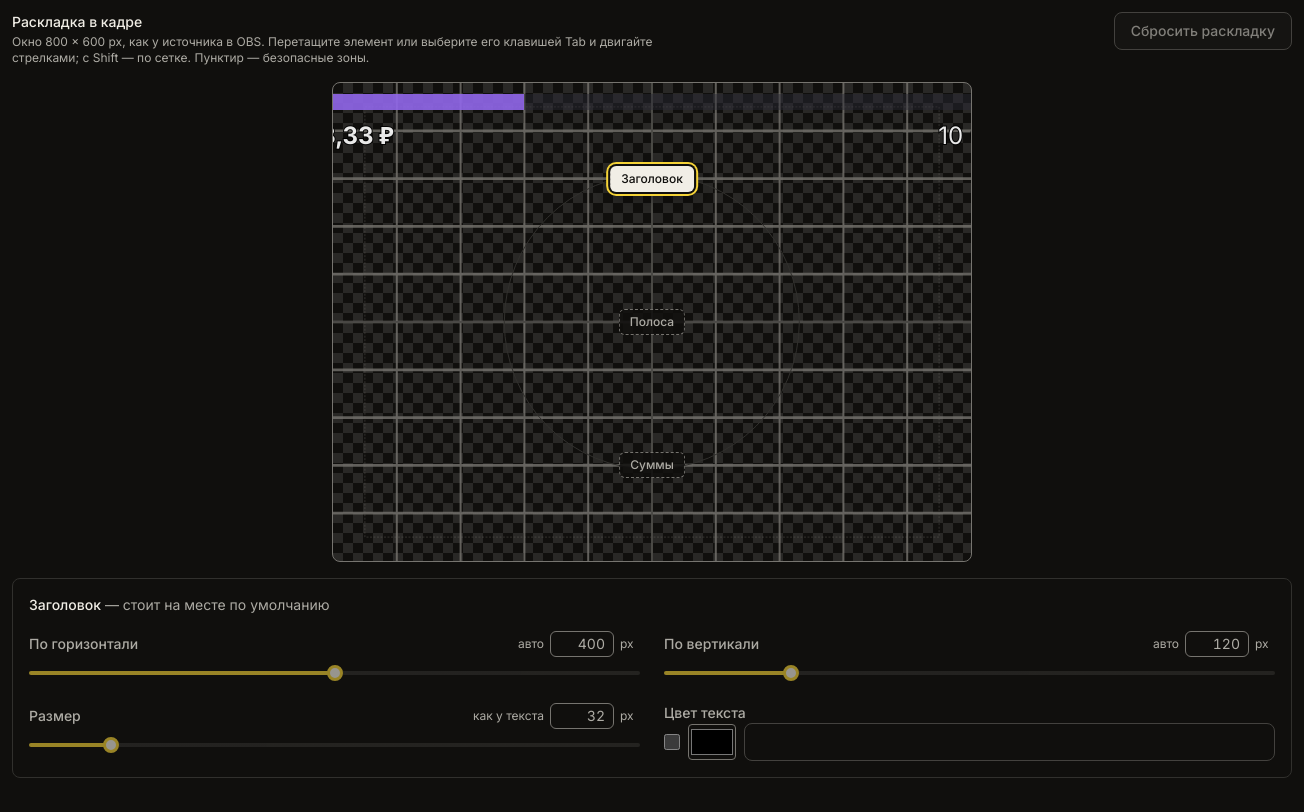
раскладка элементов в кадре › «Сбросить раскладку» возвращает все элементы в поток
The width and height of the screenshot is (1304, 812).
expect the button "Сбросить раскладку" is disabled: met, box [1114,12,1292,50]
Press ArrowRight in the button with aria-label "Заголовок:", box [610,166,694,192]
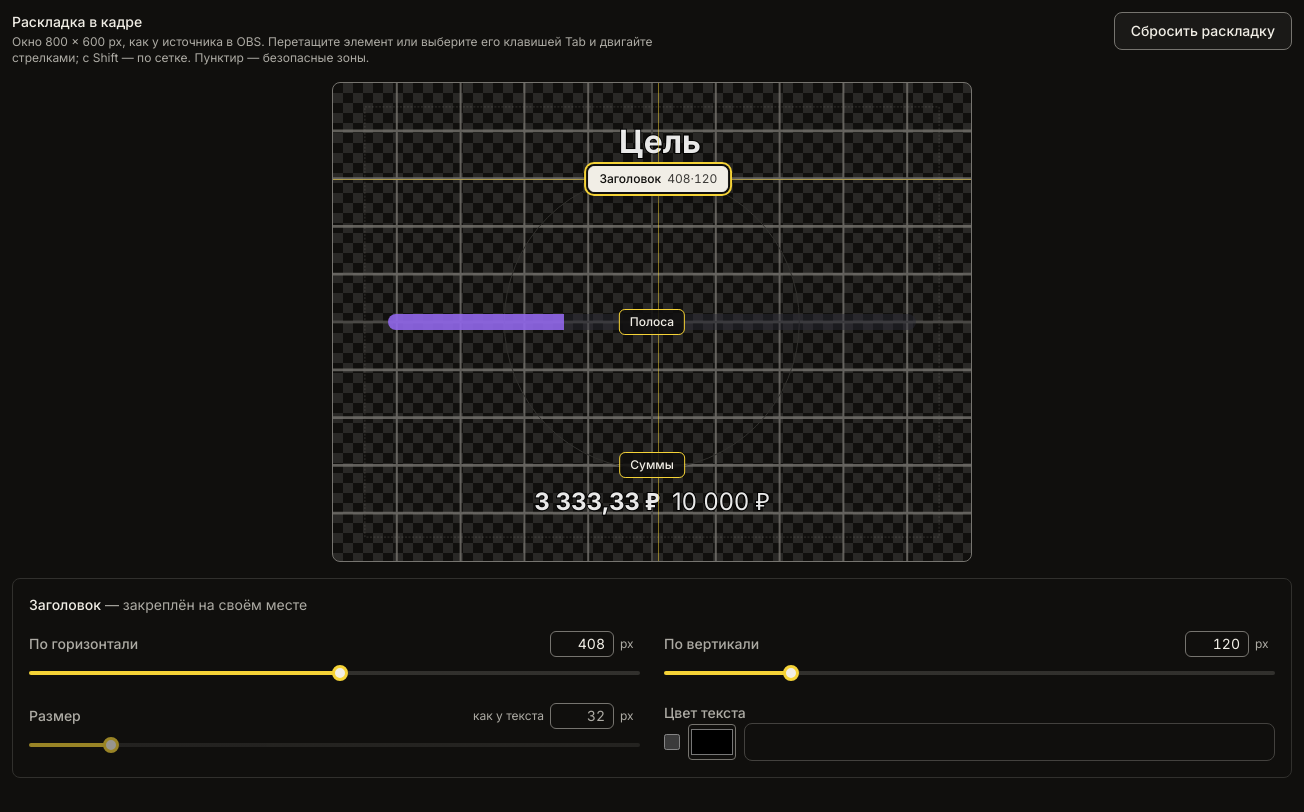
Press ArrowDown in the button "Полоса", box [619,309,685,335]
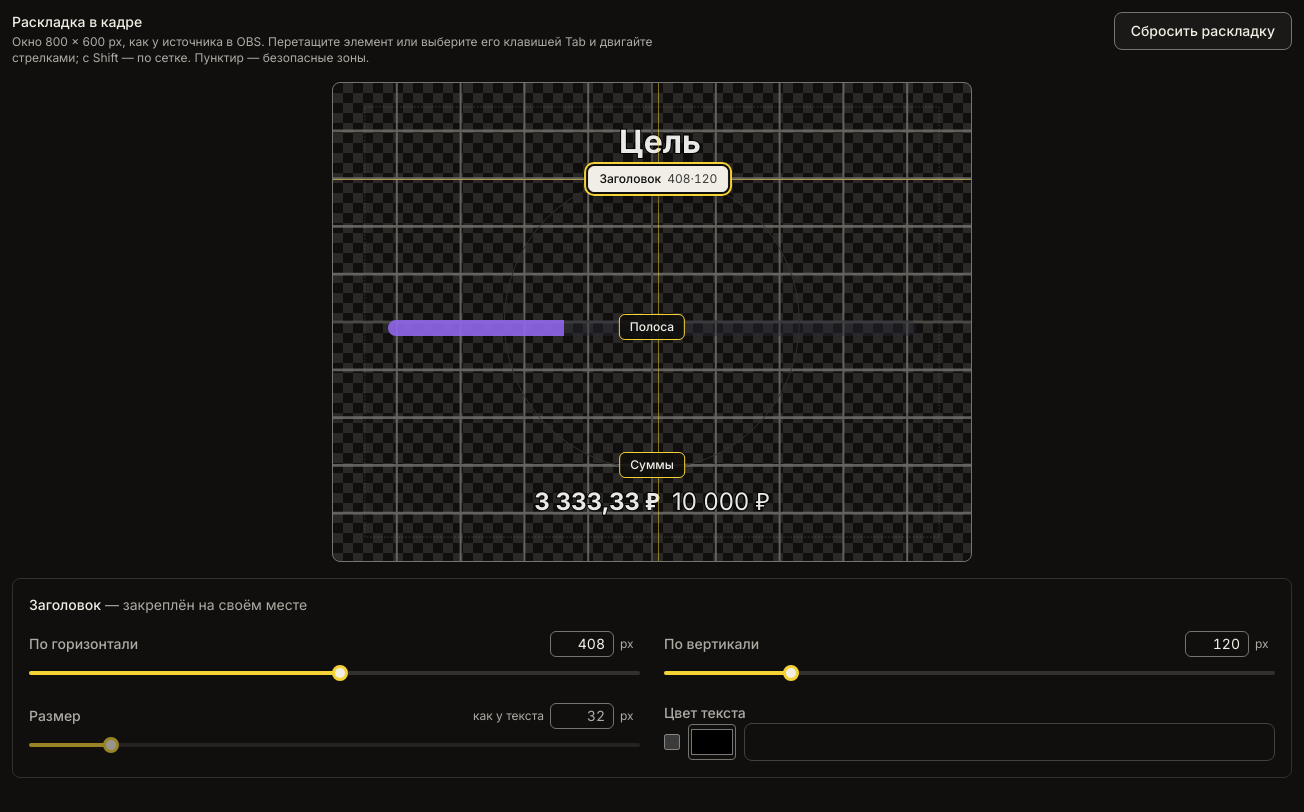
expect the button "Сбросить раскладку" is enabled: met
Click the button "Сбросить раскладку" at (1203, 31), box [1114,12,1292,50]
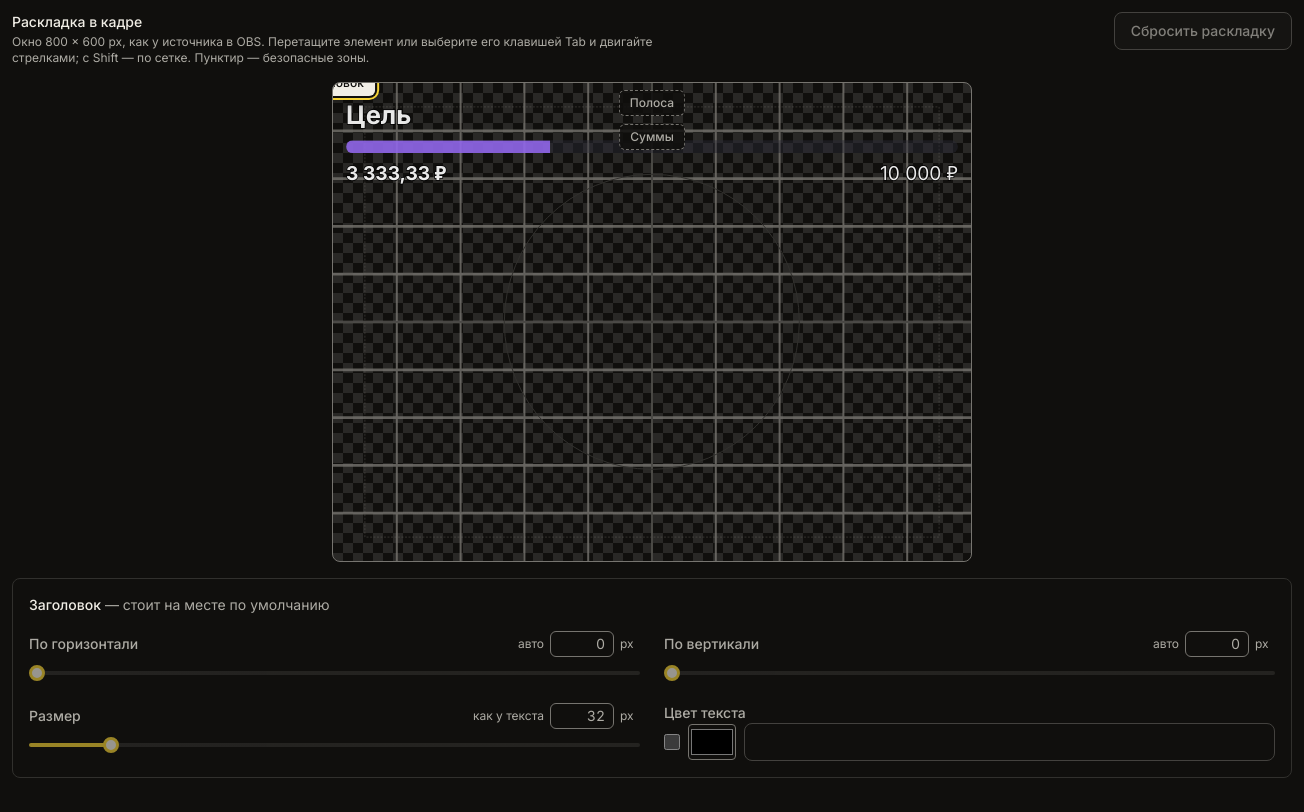
expect the button "Сбросить раскладку" is disabled: met, box [1114,12,1292,50]
